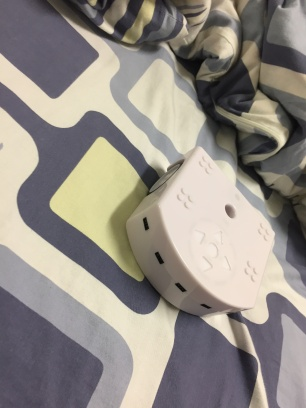thymio: (123, 142, 276, 323)
